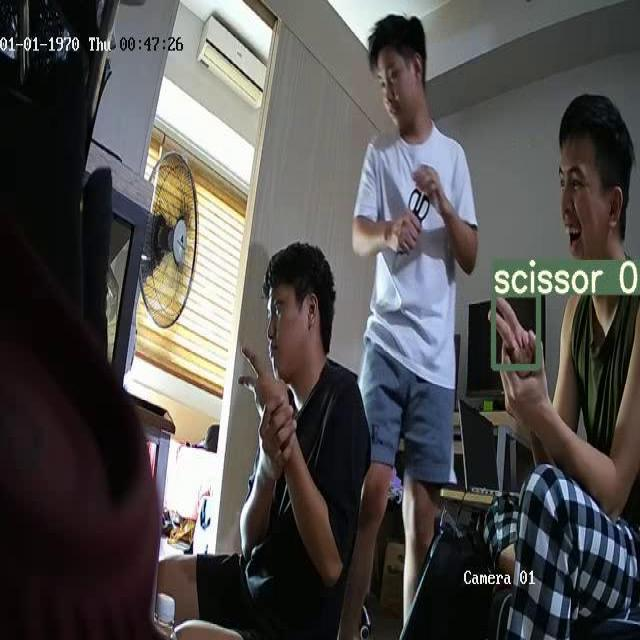scissor: (398, 192, 430, 252)
